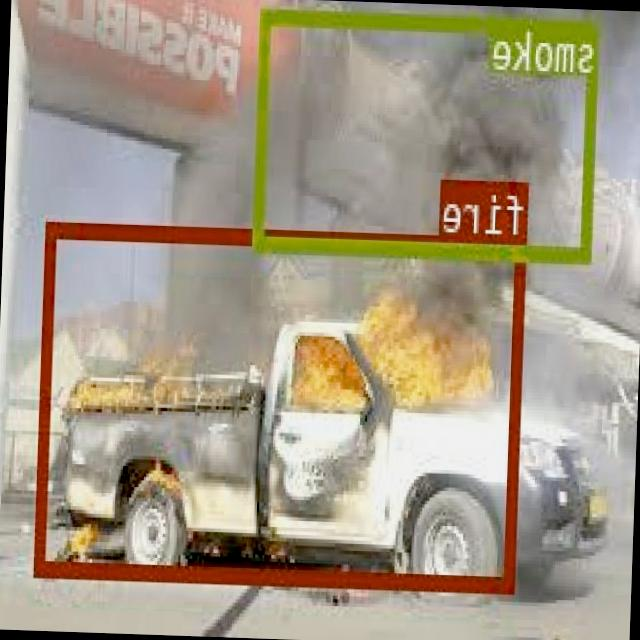fire: (35, 221, 528, 591)
smoke: (256, 8, 602, 261)
